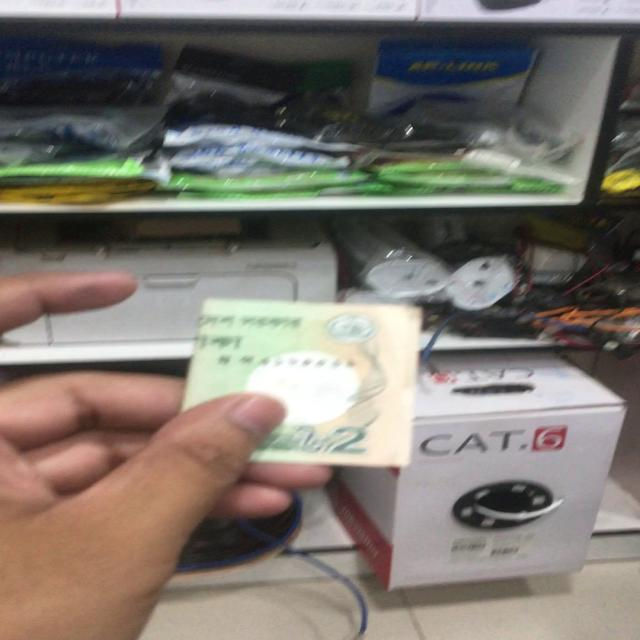Taka: (193, 298, 416, 468)
